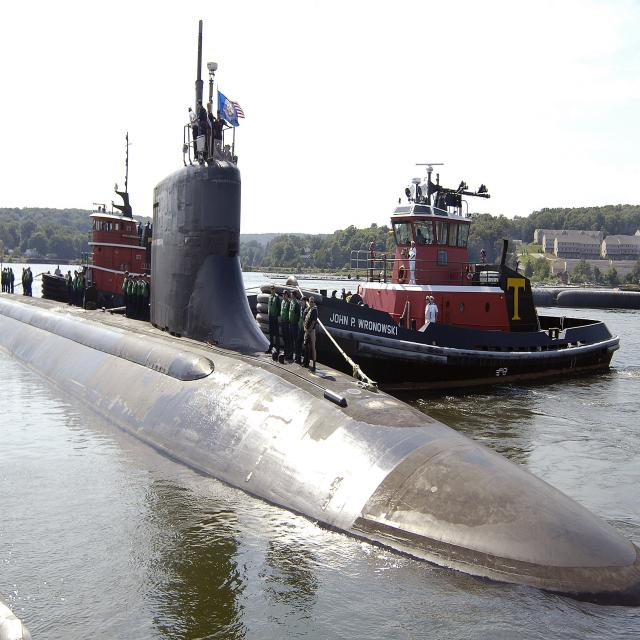submarine: (1, 14, 640, 625)
